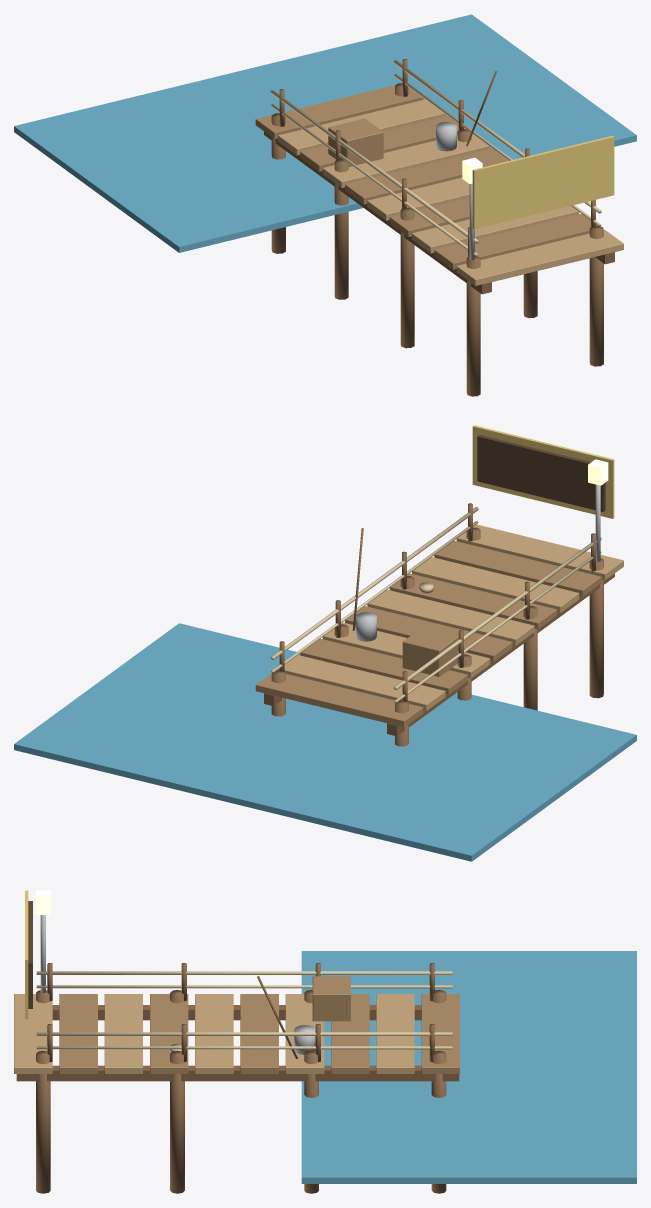
Rendered from FishingDock.glb.
3 views of the same model, one above another, from view 1: azimuth 30°, elevation 25°; view 2: azimuth 150°, elevation 25°; view 3: azimuth 270°, elevation 25° (orthographic).
Parts seen in each view (by area): view 1: Water, DockSignFrame, Plank, Plank.001, Plank.009, Plank.005, Plank.006, Plank.008, Plank.002, Plank.007, Plank.004, Piling.001 (+13 smaller); view 2: Water, DockSign, Plank.009, Plank.001, Plank.004, Plank.008, Plank.002, Plank, Plank.007, Plank.003, DockSignFrame, Plank.005 (+10 smaller); view 3: Water, StringerR, Plank.001, Plank.004, Plank.008, Plank.002, Plank.005, Plank.009, Plank, Plank.003, Plank.007, Piling.004 (+14 smaller).
Boxes of the visible parts, left/top/right/bottom form: Water: left=14, top=14, right=636, bottom=252; DockSignFrame: left=472, top=135, right=614, bottom=229; Plank: left=456, top=230, right=623, bottom=285; Plank.001: left=434, top=213, right=597, bottom=269; Plank.009: left=255, top=85, right=423, bottom=138; Plank.005: left=345, top=148, right=509, bottom=204; Plank.006: left=322, top=134, right=490, bottom=187; Plank.008: left=278, top=99, right=445, bottom=155; Plank.002: left=412, top=206, right=579, bottom=253; Plank.007: left=300, top=116, right=465, bottom=171; Plank.004: left=367, top=177, right=469, bottom=220; Piling.001: left=400, top=207, right=414, bottom=348; Water: left=14, top=623, right=636, bottom=861; DockSign: left=477, top=435, right=605, bottom=511; Plank.009: left=255, top=673, right=423, bottom=727; Plank.001: left=434, top=540, right=601, bottom=596; Plank.004: left=367, top=589, right=534, bottom=645; Plank.008: left=278, top=655, right=445, bottom=710; Plank.002: left=412, top=557, right=579, bottom=612; Plank: left=456, top=524, right=623, bottom=580; Plank.007: left=300, top=638, right=467, bottom=694; Plank.003: left=389, top=573, right=556, bottom=629; DockSignFrame: left=472, top=425, right=614, bottom=518; Plank.005: left=345, top=606, right=512, bottom=661; Water: left=301, top=951, right=636, bottom=1183; StringerR: left=16, top=1065, right=459, bottom=1081; Plank.001: left=59, top=994, right=97, bottom=1073; Plank.004: left=195, top=994, right=233, bottom=1073; Plank.008: left=376, top=994, right=414, bottom=1073; Plank.002: left=104, top=994, right=142, bottom=1073; Plank.005: left=240, top=994, right=278, bottom=1073; Plank.009: left=421, top=994, right=459, bottom=1073; Plank: left=14, top=994, right=52, bottom=1073; Plank.003: left=150, top=994, right=188, bottom=1073; Plank.007: left=331, top=994, right=369, bottom=1073; Piling.004: left=36, top=1050, right=50, bottom=1193.
Bounding box in the file's own units: 16 × 7.75 × 18.57.
